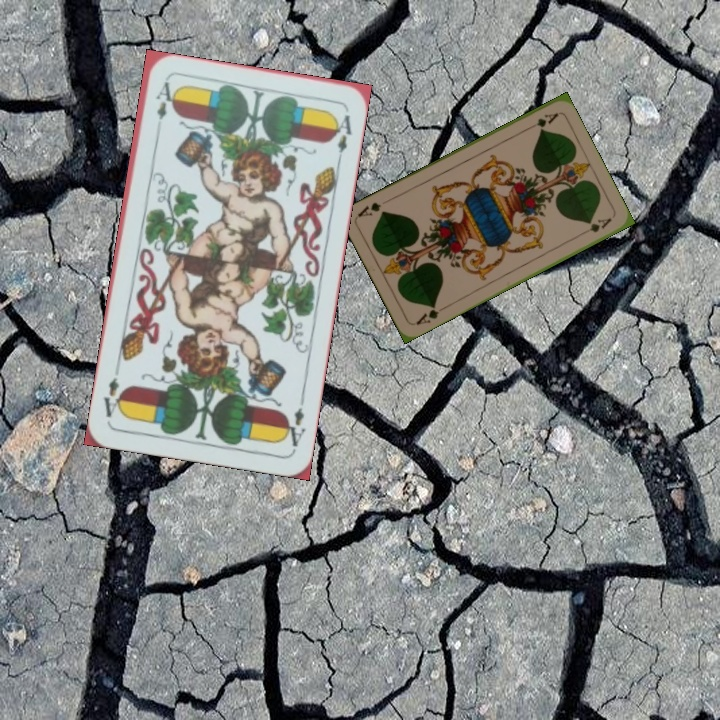EA: (280, 393, 308, 450), (152, 77, 173, 122)
GA: (412, 300, 448, 328), (522, 109, 560, 133)
